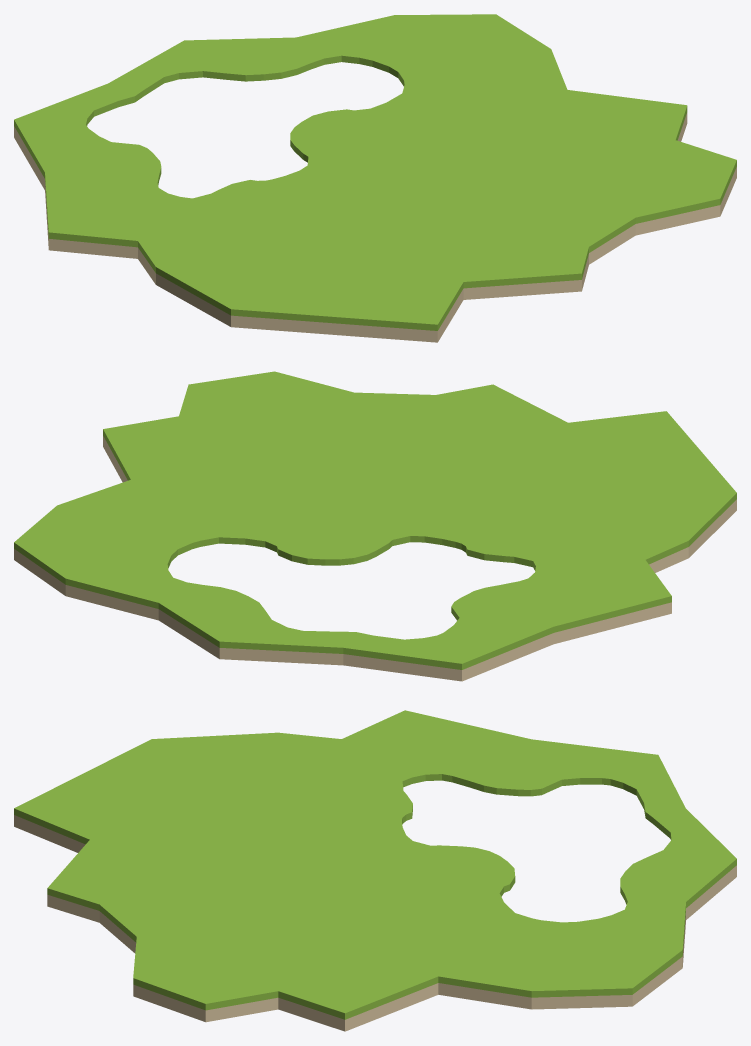
File: Island.fbx
The picture shows the model from 3 angles, top to bottom: view 1: azimuth 30°, elevation 25°; view 2: azimuth 150°, elevation 25°; view 3: azimuth 270°, elevation 25°; orthographic projection. The views are drawn at different scales.
Parts seen in each view (by area): view 1: Cylinder; view 2: Cylinder; view 3: Cylinder.
Boxes of the visible parts, x1,y1,x2,y2 form: Cylinder: (14, 14, 736, 342); Cylinder: (14, 371, 736, 681); Cylinder: (14, 710, 736, 1031).
Size of the model in its own units: 2001 by 56.47 by 2018.
